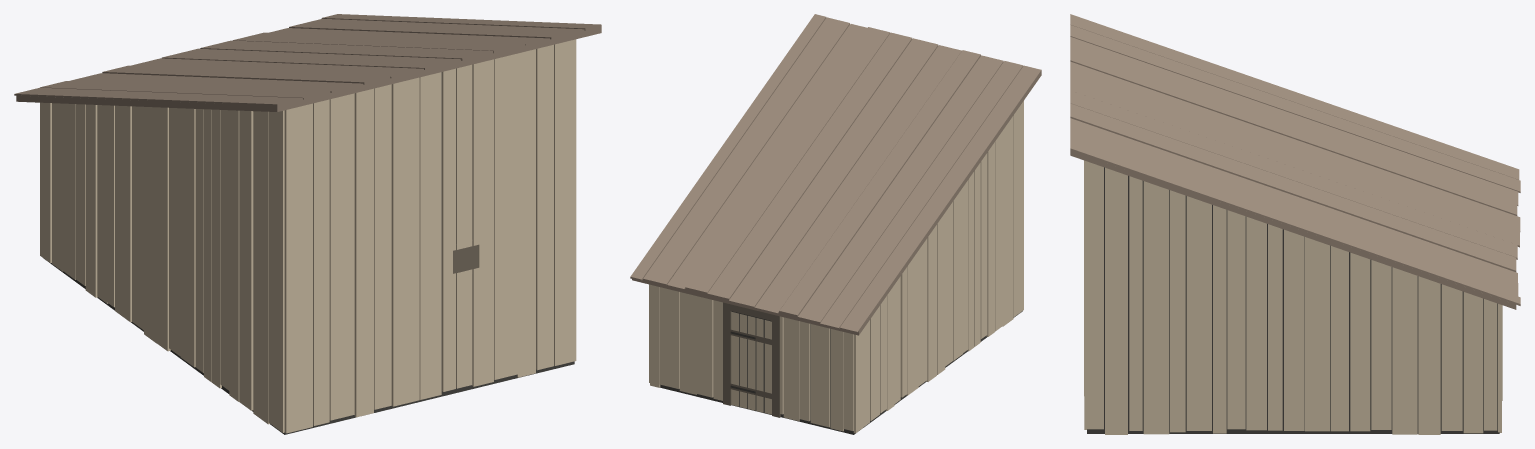
The model's file is recon_1835_north_d2_014__inferred_1835.glb.
3 views of the same model, side by side, from view 1: azimuth 30°, elevation 25°; view 2: azimuth 150°, elevation 25°; view 3: azimuth 270°, elevation 25° (orthographic). The views are drawn at different scales.
Parts seen in each view (by area): view 1: recon_1835_north_d2_014__inferred_1835; view 2: recon_1835_north_d2_014__inferred_1835; view 3: recon_1835_north_d2_014__inferred_1835.
Boxes of the visible parts, x1,y1,x2,y2 form: recon_1835_north_d2_014__inferred_1835: [14, 14, 601, 434]; recon_1835_north_d2_014__inferred_1835: [630, 14, 1041, 434]; recon_1835_north_d2_014__inferred_1835: [1070, 14, 1520, 434].
Size of the model in its own units: 4.7 by 4.75 by 6.62.
